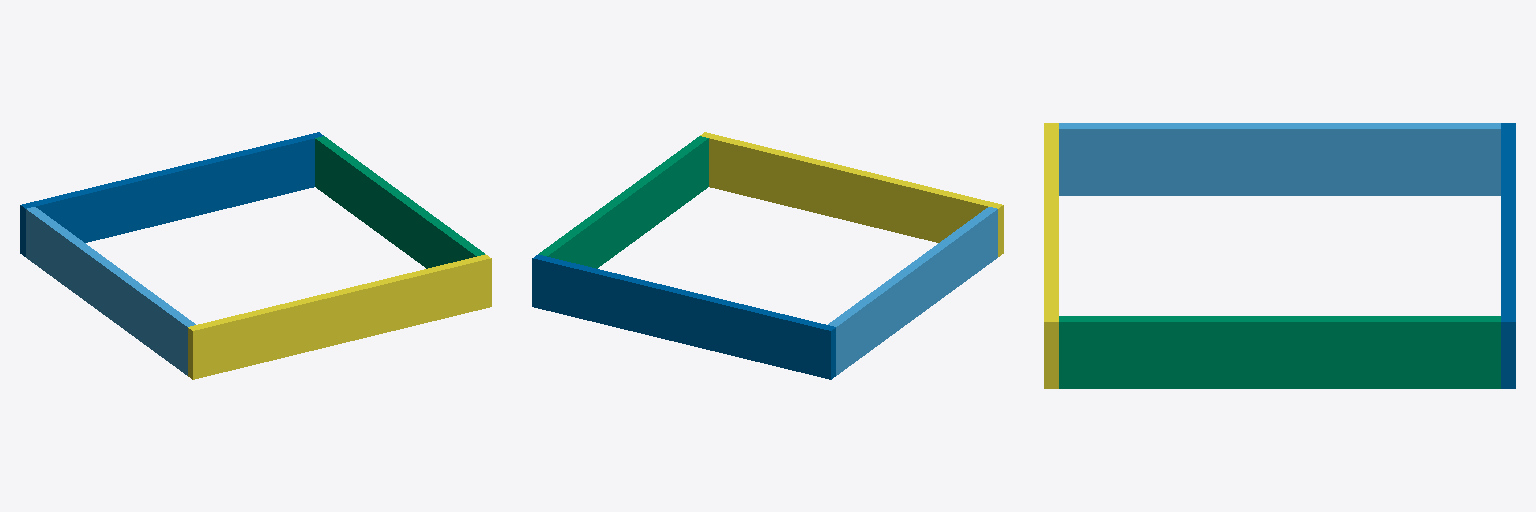
URDF robot description (wall):
<?xml version="1.0" ?>
<robot name="wall">

    <link name="wall_base_link">
        <inertial>
        <mass value="0"/>
        <inertia ixx="0.0" ixy="0.0" ixz="0.0" iyy="0.0" iyz="0.0" izz="0.0"/>
        </inertial>
    </link>

    <link name="x_neg_wall">
        <contact>
            <lateral_friction value="1"/>
        </contact>
        <inertial>
            <origin rpy="0 0 0" xyz="-0.155 0 0.025"/>
            <mass value="0"/>
            <inertia ixx="0" ixy="0" ixz="0" iyy="0" iyz="0" izz="0"/>
        </inertial>
        <visual>
            <origin rpy="0 0 0" xyz="-0.155 0 0.025"/>
            <geometry>
                <mesh filename="wallx30.obj" scale="1 1 1"/>
            </geometry>
        </visual>
        <collision>
            <origin rpy="0 0 0" xyz="-0.155 0 0.025"/>
            <geometry>
                <mesh filename="wallx30.obj" scale="1 1 1"/>
            </geometry>
        </collision>
    </link>

    <joint name="base_to_x_neg_wall" type="fixed">
        <parent link="wall_base_link"/>
        <child link="x_neg_wall"/>
    </joint>


    <link name="x_pos_wall">
        <contact>
            <lateral_friction value="1"/>
        </contact>
        <inertial>
            <origin rpy="0 0 0" xyz="0.155 0 0.025"/>
            <mass value="0"/>
            <inertia ixx="0" ixy="0" ixz="0" iyy="0" iyz="0" izz="0"/>
        </inertial>
        <visual>
            <origin rpy="0 0 0" xyz="0.155 0 0.025"/>
            <geometry>
                <mesh filename="wallx30.obj" scale="1 1 1"/>
            </geometry>
        </visual>
        <collision>
            <origin rpy="0 0 0" xyz="0.155 0 0.025"/>
            <geometry>
                <mesh filename="wallx30.obj" scale="1 1 1"/>
            </geometry>
        </collision>
    </link>

    <joint name="base_to_x_pos_wall" type="fixed">
        <parent link="wall_base_link"/>
        <child link="x_pos_wall"/>
    </joint>


    <link name="y_neg_wall">
        <contact>
            <lateral_friction value="1"/>
        </contact>
        <inertial>
            <origin rpy="0 0 0" xyz="0 -0.155 0.025"/>
            <mass value="0"/>
            <inertia ixx="0" ixy="0" ixz="0" iyy="0" iyz="0" izz="0"/>
        </inertial>
        <visual>
            <origin rpy="0 0 0" xyz="0 -0.155 0.025"/>
            <geometry>
                <mesh filename="wally32.obj" scale="1 1 1"/>
            </geometry>
        </visual>
        <collision>
            <origin rpy="0 0 0" xyz="0 -0.155 0.025"/>
            <geometry>
                <mesh filename="wally32.obj" scale="1 1 1"/>
            </geometry>
        </collision>
    </link>

    <joint name="base_to_y_neg_wall" type="fixed">
        <parent link="wall_base_link"/>
        <child link="y_neg_wall"/>
    </joint>

    <link name="y_pos_wall">
        <contact>
            <lateral_friction value="1"/>
        </contact>
        <inertial>
            <origin rpy="0 0 0" xyz="0 0.155 0.025"/>
            <mass value="0"/>
            <inertia ixx="0" ixy="0" ixz="0" iyy="0" iyz="0" izz="0"/>
        </inertial>
        <visual>
            <origin rpy="0 0 0" xyz="0 0.155 0.025"/>
            <geometry>
                <mesh filename="wally32.obj" scale="1 1 1"/>
            </geometry>
        </visual>
        <collision>
            <origin rpy="0 0 0" xyz="0 0.155 0.025"/>
            <geometry>
                <mesh filename="wally32.obj" scale="1 1 1"/>
            </geometry>
        </collision>
    </link>

    <joint name="base_to_y_pos_wall" type="fixed">
        <parent link="wall_base_link"/>
        <child link="y_pos_wall"/>
    </joint>

</robot>

--- What the picture shows (computed from the rendered views, not written in the file) ---
3 views of the same robot in one strip: view 1: azimuth 30°, elevation 25°; view 2: azimuth 150°, elevation 25°; view 3: azimuth 270°, elevation 25° (orthographic).
Model wall with 5 links and 4 joints (4 fixed), rooted at wall_base_link, posed every joint at zero.
Links seen in each view (by area): view 1: y_neg_wall, y_pos_wall, x_neg_wall, x_pos_wall; view 2: y_pos_wall, y_neg_wall, x_neg_wall, x_pos_wall; view 3: x_neg_wall, x_pos_wall, y_neg_wall, y_pos_wall.
Boxes of the visible links, left/top/right/bottom form: y_neg_wall: left=188, top=254, right=491, bottom=379; y_pos_wall: left=20, top=132, right=323, bottom=256; x_neg_wall: left=26, top=207, right=195, bottom=375; x_pos_wall: left=315, top=136, right=484, bottom=268; y_pos_wall: left=532, top=254, right=835, bottom=379; y_neg_wall: left=700, top=132, right=1003, bottom=256; x_neg_wall: left=828, top=207, right=997, bottom=375; x_pos_wall: left=539, top=136, right=708, bottom=268; x_neg_wall: left=1059, top=123, right=1500, bottom=195; x_pos_wall: left=1059, top=316, right=1500, bottom=388; y_neg_wall: left=1044, top=123, right=1058, bottom=388; y_pos_wall: left=1501, top=123, right=1515, bottom=388.
Bounding box of the posed robot: 0.32 × 0.32 × 0.05 m (x, y, z).
4 mesh visuals loaded from 2 distinct referenced files (2 OBJ).
